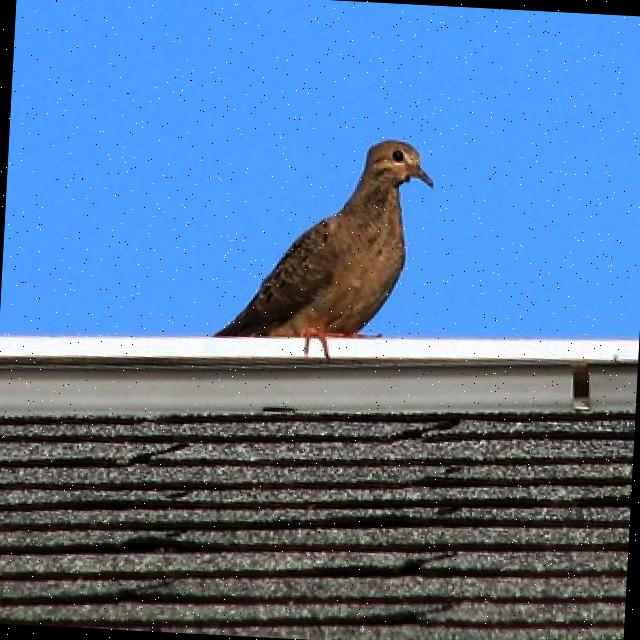bird: (210, 130, 437, 364)
